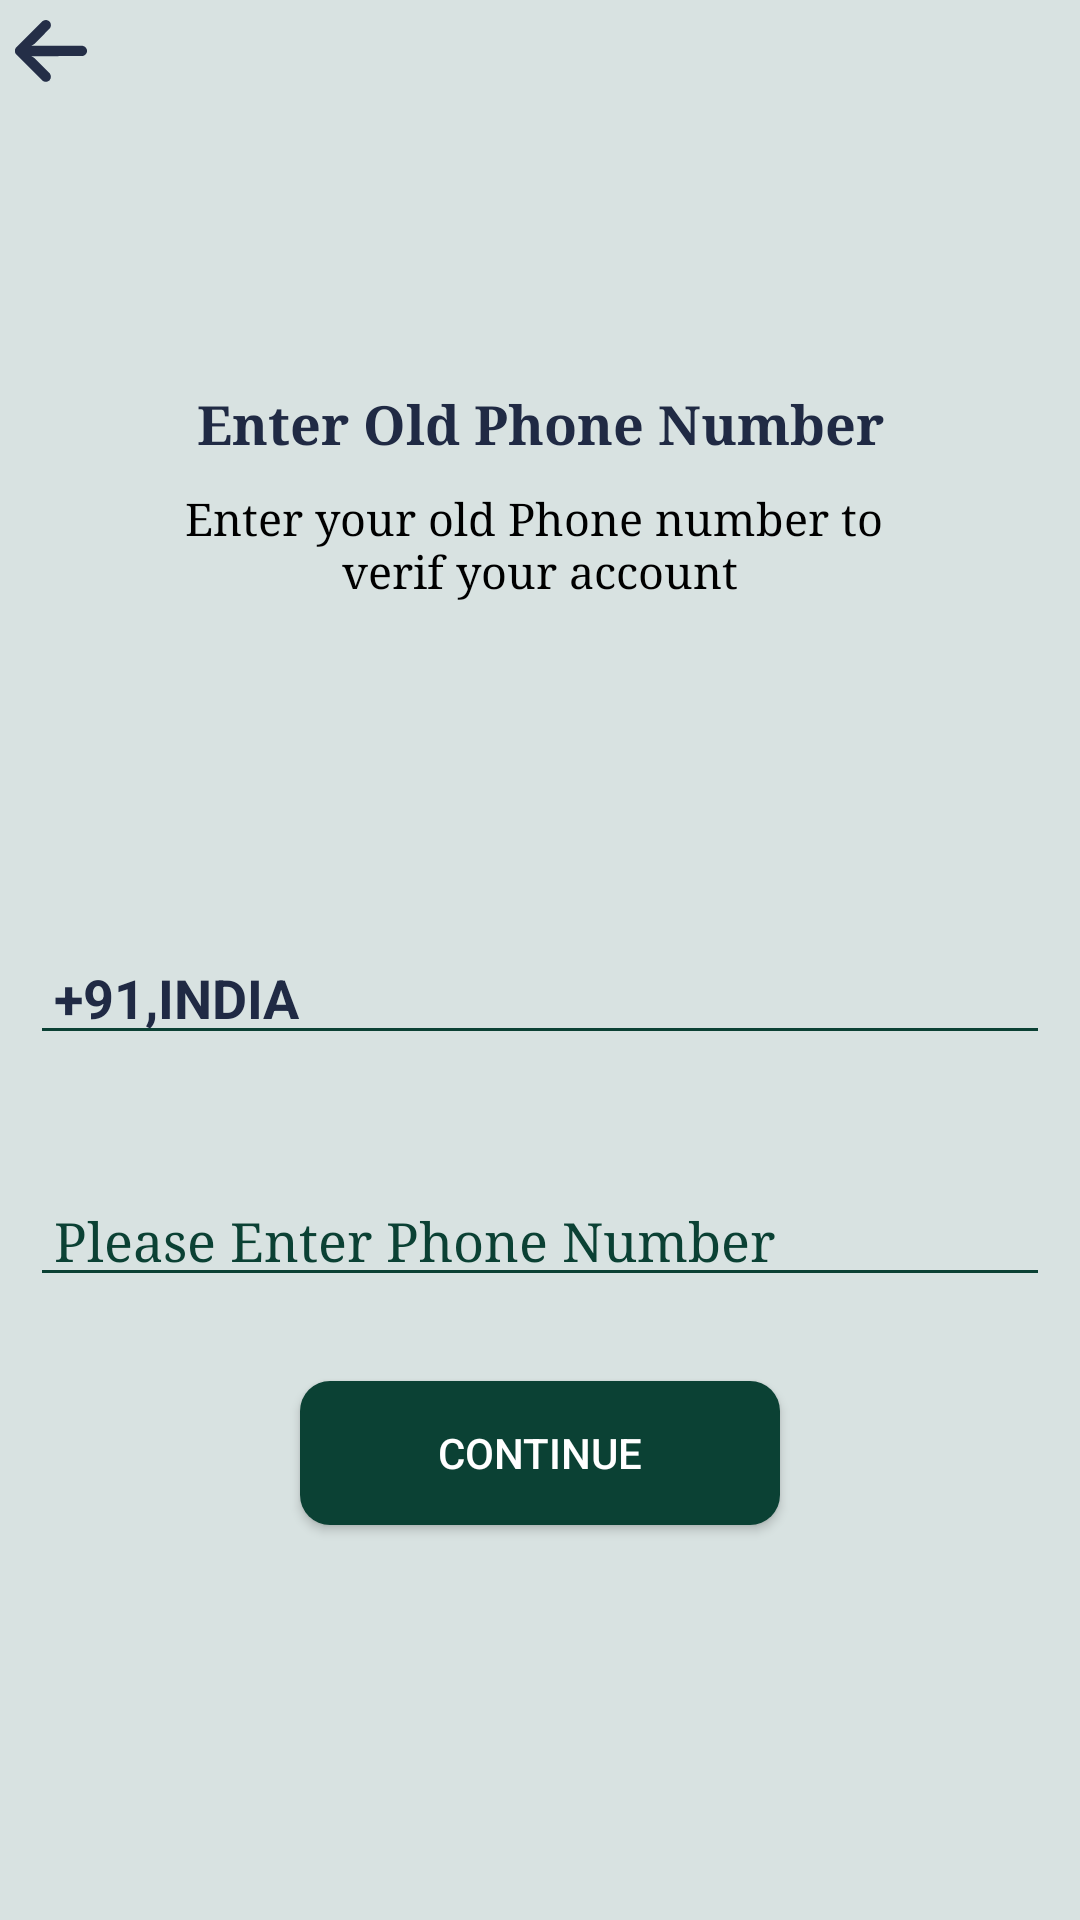

Icon click points for this 1080w x 1920h phone screenshot, format (x,y):
arrow: (51,51)
